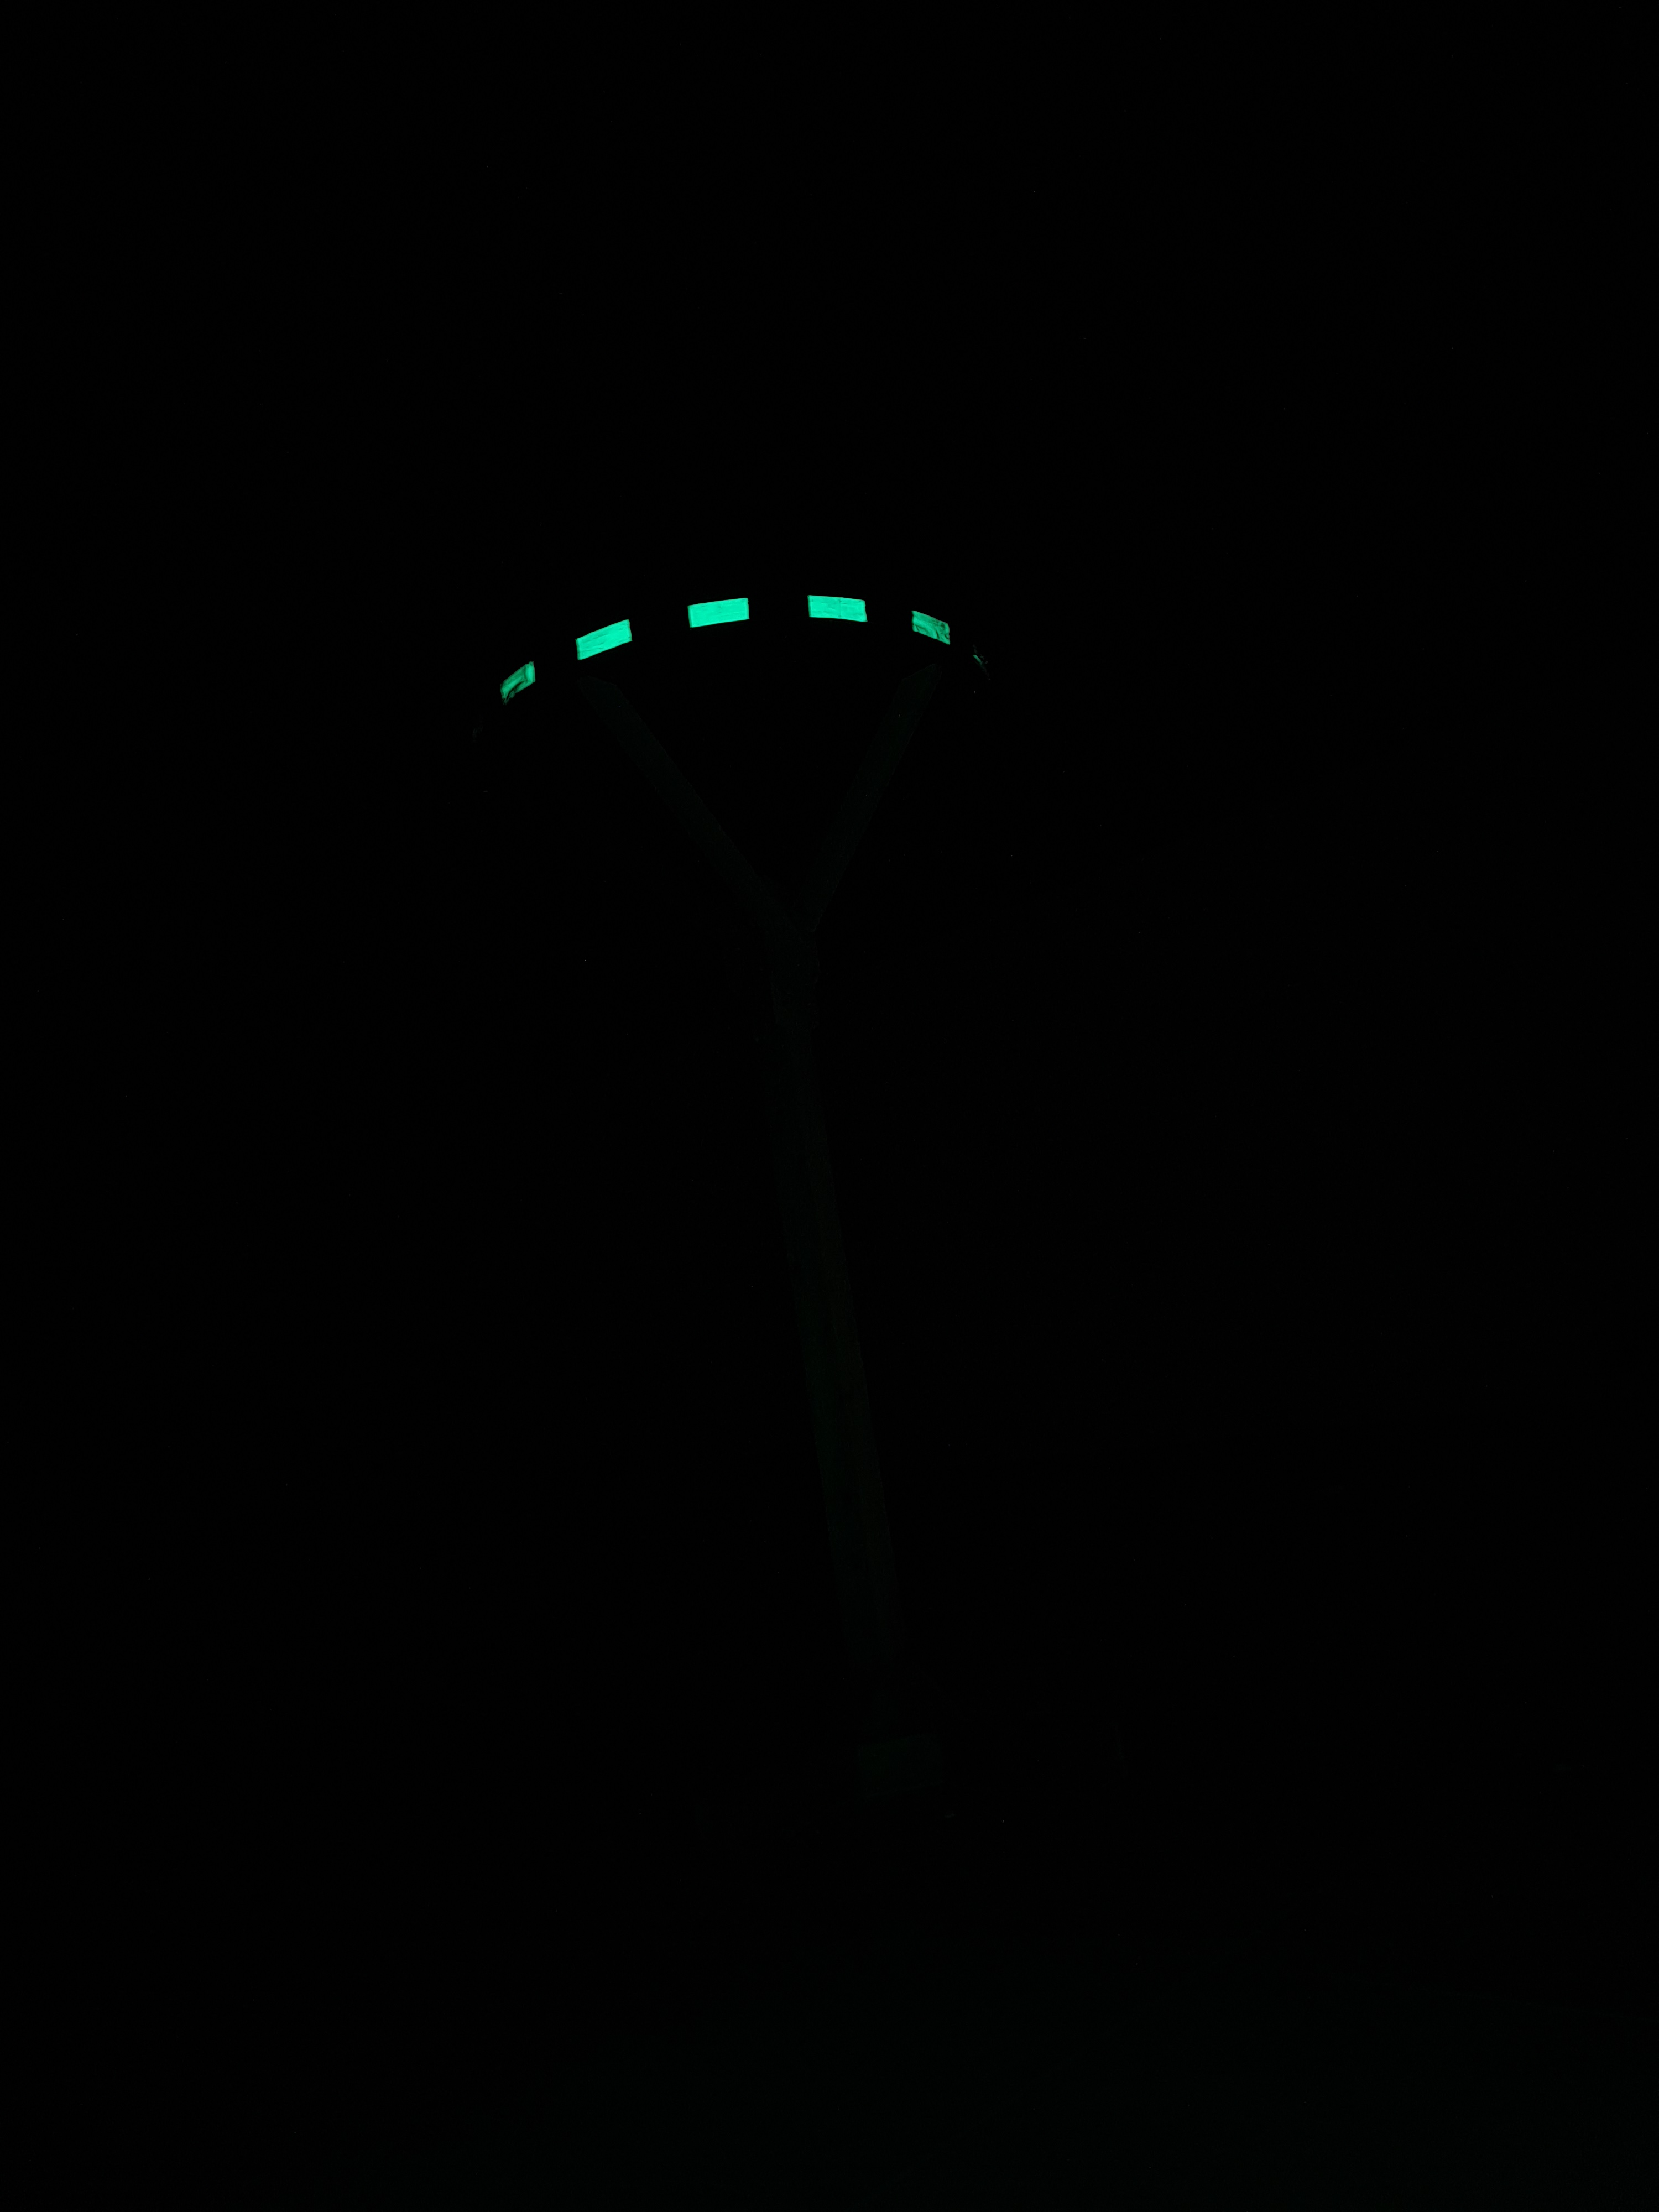hoop: (493, 589, 957, 705)
